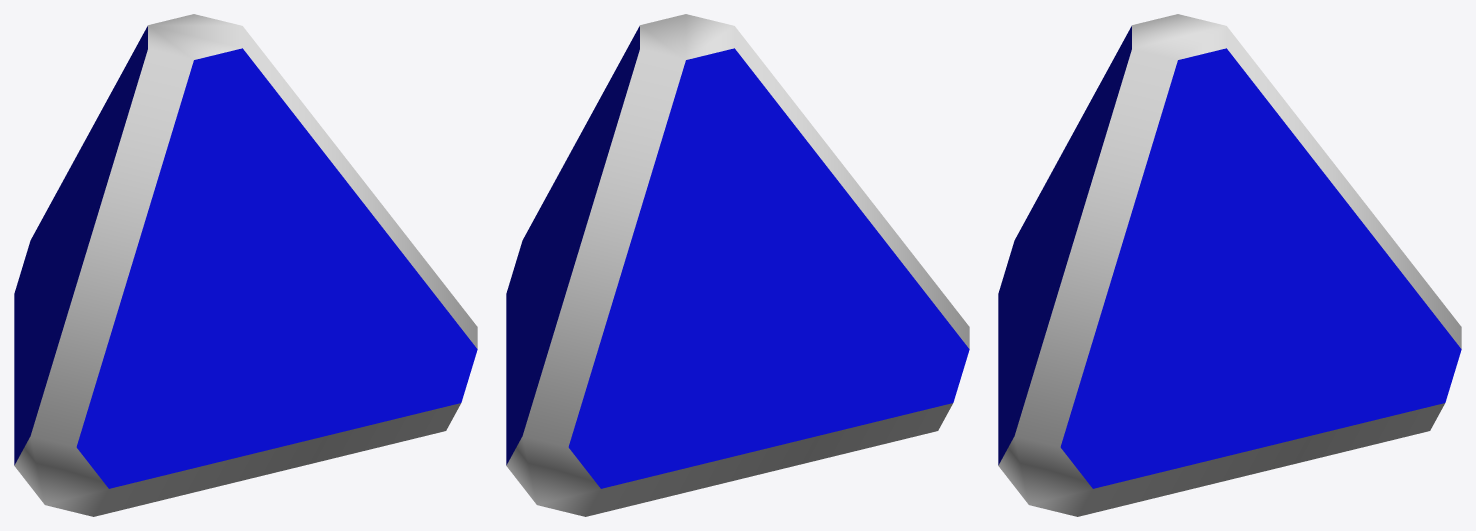
File: D4_Beveled.fbx
3 views of the same model, side by side, from view 1: azimuth 30°, elevation 25°; view 2: azimuth 150°, elevation 25°; view 3: azimuth 270°, elevation 25° (orthographic).
Parts seen in each view (by area): view 1: D4_Beveled; view 2: D4_Beveled; view 3: D4_Beveled.
Boxes of the visible parts, x1,y1,x2,y2 form: D4_Beveled: (14, 14, 477, 516); D4_Beveled: (506, 14, 969, 516); D4_Beveled: (998, 14, 1461, 516).
Bounding box in the file's own units: 136 × 111 × 122.
